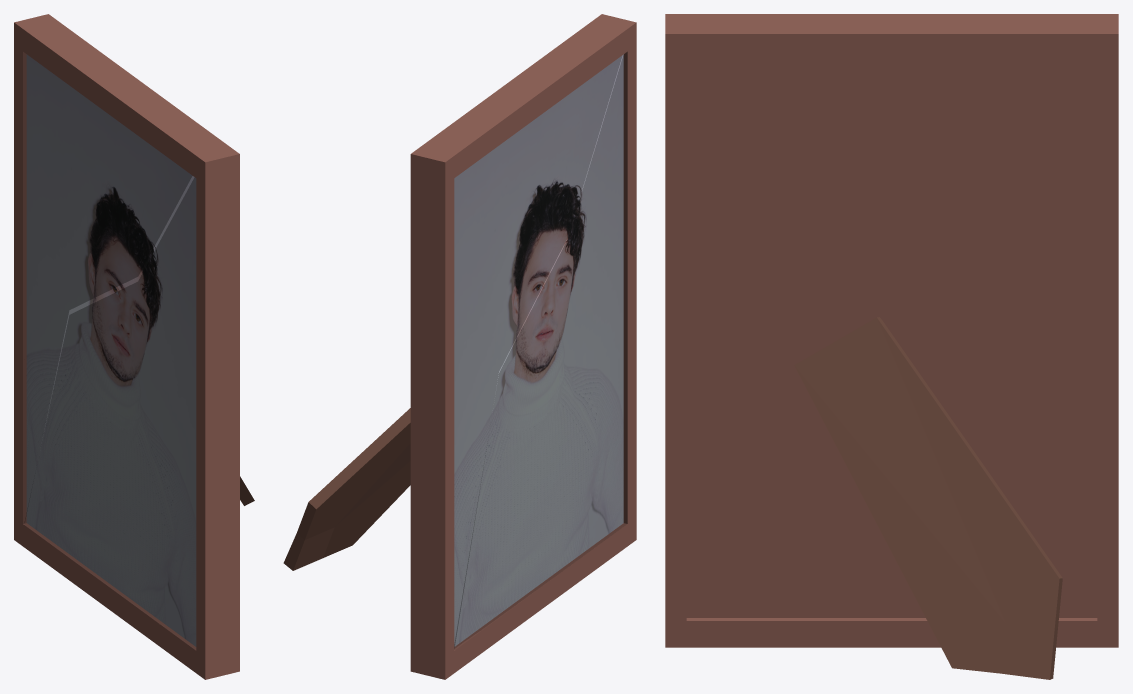
File: Fotolijstje_NegatiefInteractable.fbx
The picture shows the model from 3 angles, left to right: view 1: azimuth 30°, elevation 25°; view 2: azimuth 150°, elevation 25°; view 3: azimuth 270°, elevation 25°; orthographic projection. The views are drawn at different scales.
Visible parts, largest first — view 1: FotoLijstje, BrokenGlass; view 2: FotoLijstje, BrokenGlass; view 3: FotoLijstje.
Boxes of the visible parts, <box> form: FotoLijstje: <box>14,14,254,679</box>; BrokenGlass: <box>23,52,195,649</box>; FotoLijstje: <box>283,14,636,679</box>; BrokenGlass: <box>454,52,627,649</box>; FotoLijstje: <box>665,14,1118,679</box>.
Size of the model in its own units: 8.23 by 21.32 by 14.28.
